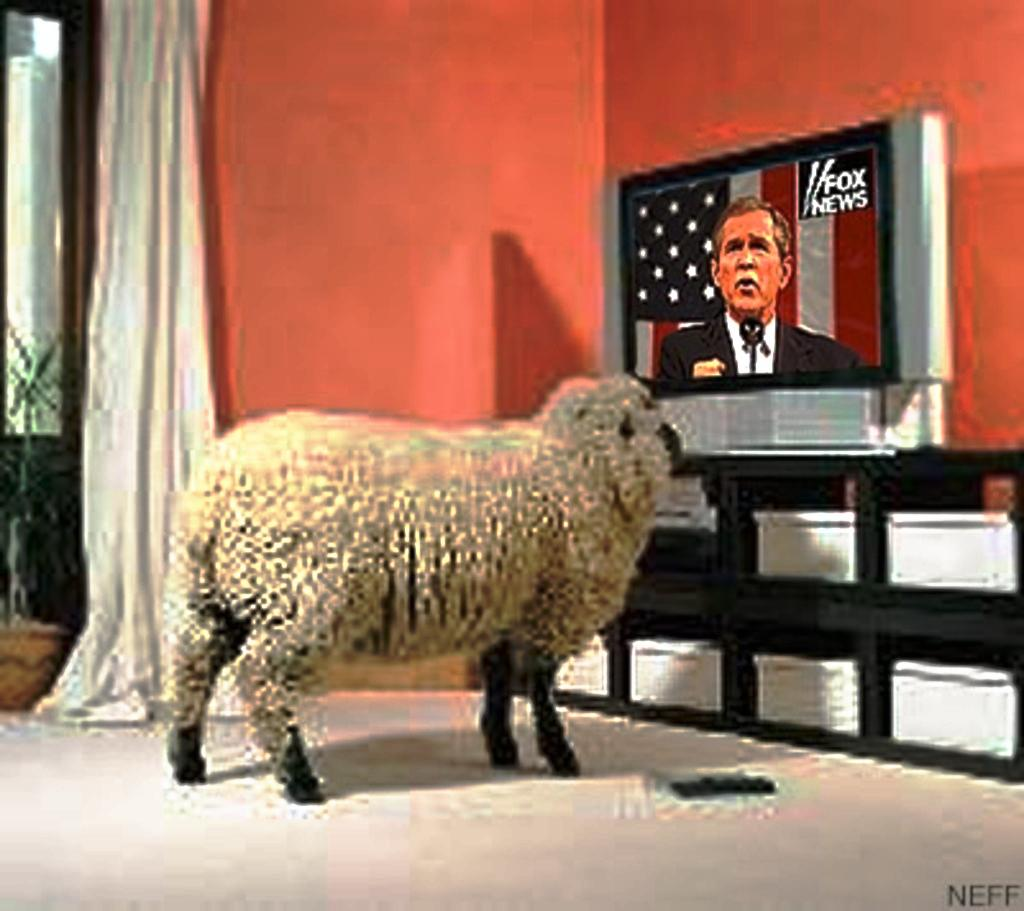Sheep: (154, 366, 688, 806)
